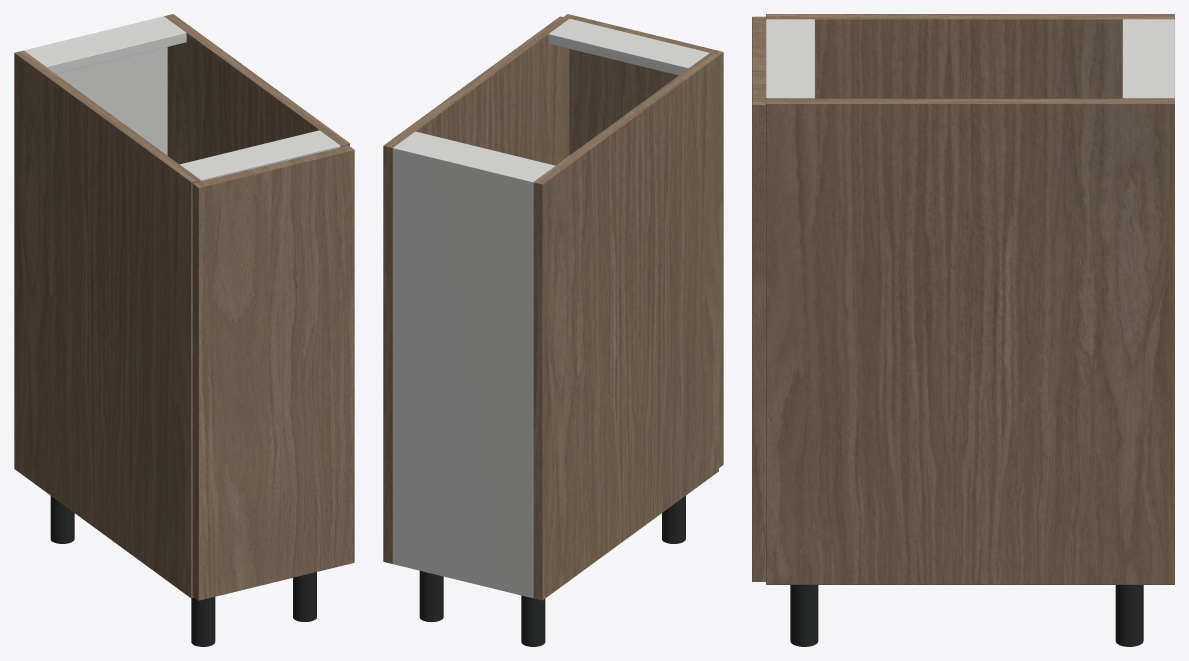
The model's file is oppein-pb-mnw-b12fh.glb.
3 renders of one model, left to right at view 1: azimuth 30°, elevation 25°; view 2: azimuth 150°, elevation 25°; view 3: azimuth 270°, elevation 25°, orthographic. The views are drawn at different scales.
Parts seen in each view (by area): view 1: Cabinet side, Door, Cabinet side.001, Cabinet back, Top support rail, Top support rail.001, Adjustable foot.001, Adjustable foot.003, Adjustable foot; view 2: Cabinet side, Cabinet back, Cabinet side.001, Door, Top support rail.001, Top support rail, Adjustable foot, Adjustable foot.002, Adjustable foot.001; view 3: Cabinet side.001, Cabinet side, Door, Top support rail.001, Top support rail, Adjustable foot.002, Adjustable foot.003, Cabinet back.
Part boxes in pixels (x1,y1,x2,y2): Cabinet side: [14, 50, 200, 598]; Door: [192, 145, 354, 600]; Cabinet side.001: [164, 14, 349, 164]; Cabinet back: [24, 16, 167, 155]; Top support rail: [25, 18, 186, 73]; Top support rail.001: [179, 130, 340, 181]; Adjustable foot.001: [191, 597, 215, 646]; Adjustable foot.003: [293, 572, 316, 621]; Adjustable foot: [50, 496, 74, 543]; Cabinet side: [533, 53, 718, 600]; Cabinet back: [393, 145, 535, 597]; Cabinet side.001: [383, 16, 569, 563]; Door: [564, 14, 723, 467]; Top support rail.001: [548, 18, 709, 75]; Top support rail: [396, 131, 554, 179]; Adjustable foot: [521, 595, 545, 646]; Adjustable foot.002: [419, 571, 443, 622]; Adjustable foot.001: [662, 496, 685, 543]; Cabinet side.001: [766, 98, 1174, 584]; Cabinet side: [766, 14, 1174, 98]; Door: [752, 16, 765, 581]; Top support rail.001: [766, 19, 814, 98]; Top support rail: [1122, 19, 1166, 98]; Adjustable foot.002: [1115, 585, 1143, 646]; Adjustable foot.003: [790, 585, 818, 646]; Cabinet back: [1167, 19, 1174, 98].
Size of the model in its own units: 0.3048 by 0.8763 by 0.6064.
Materials: 3 (1 with a texture image).
